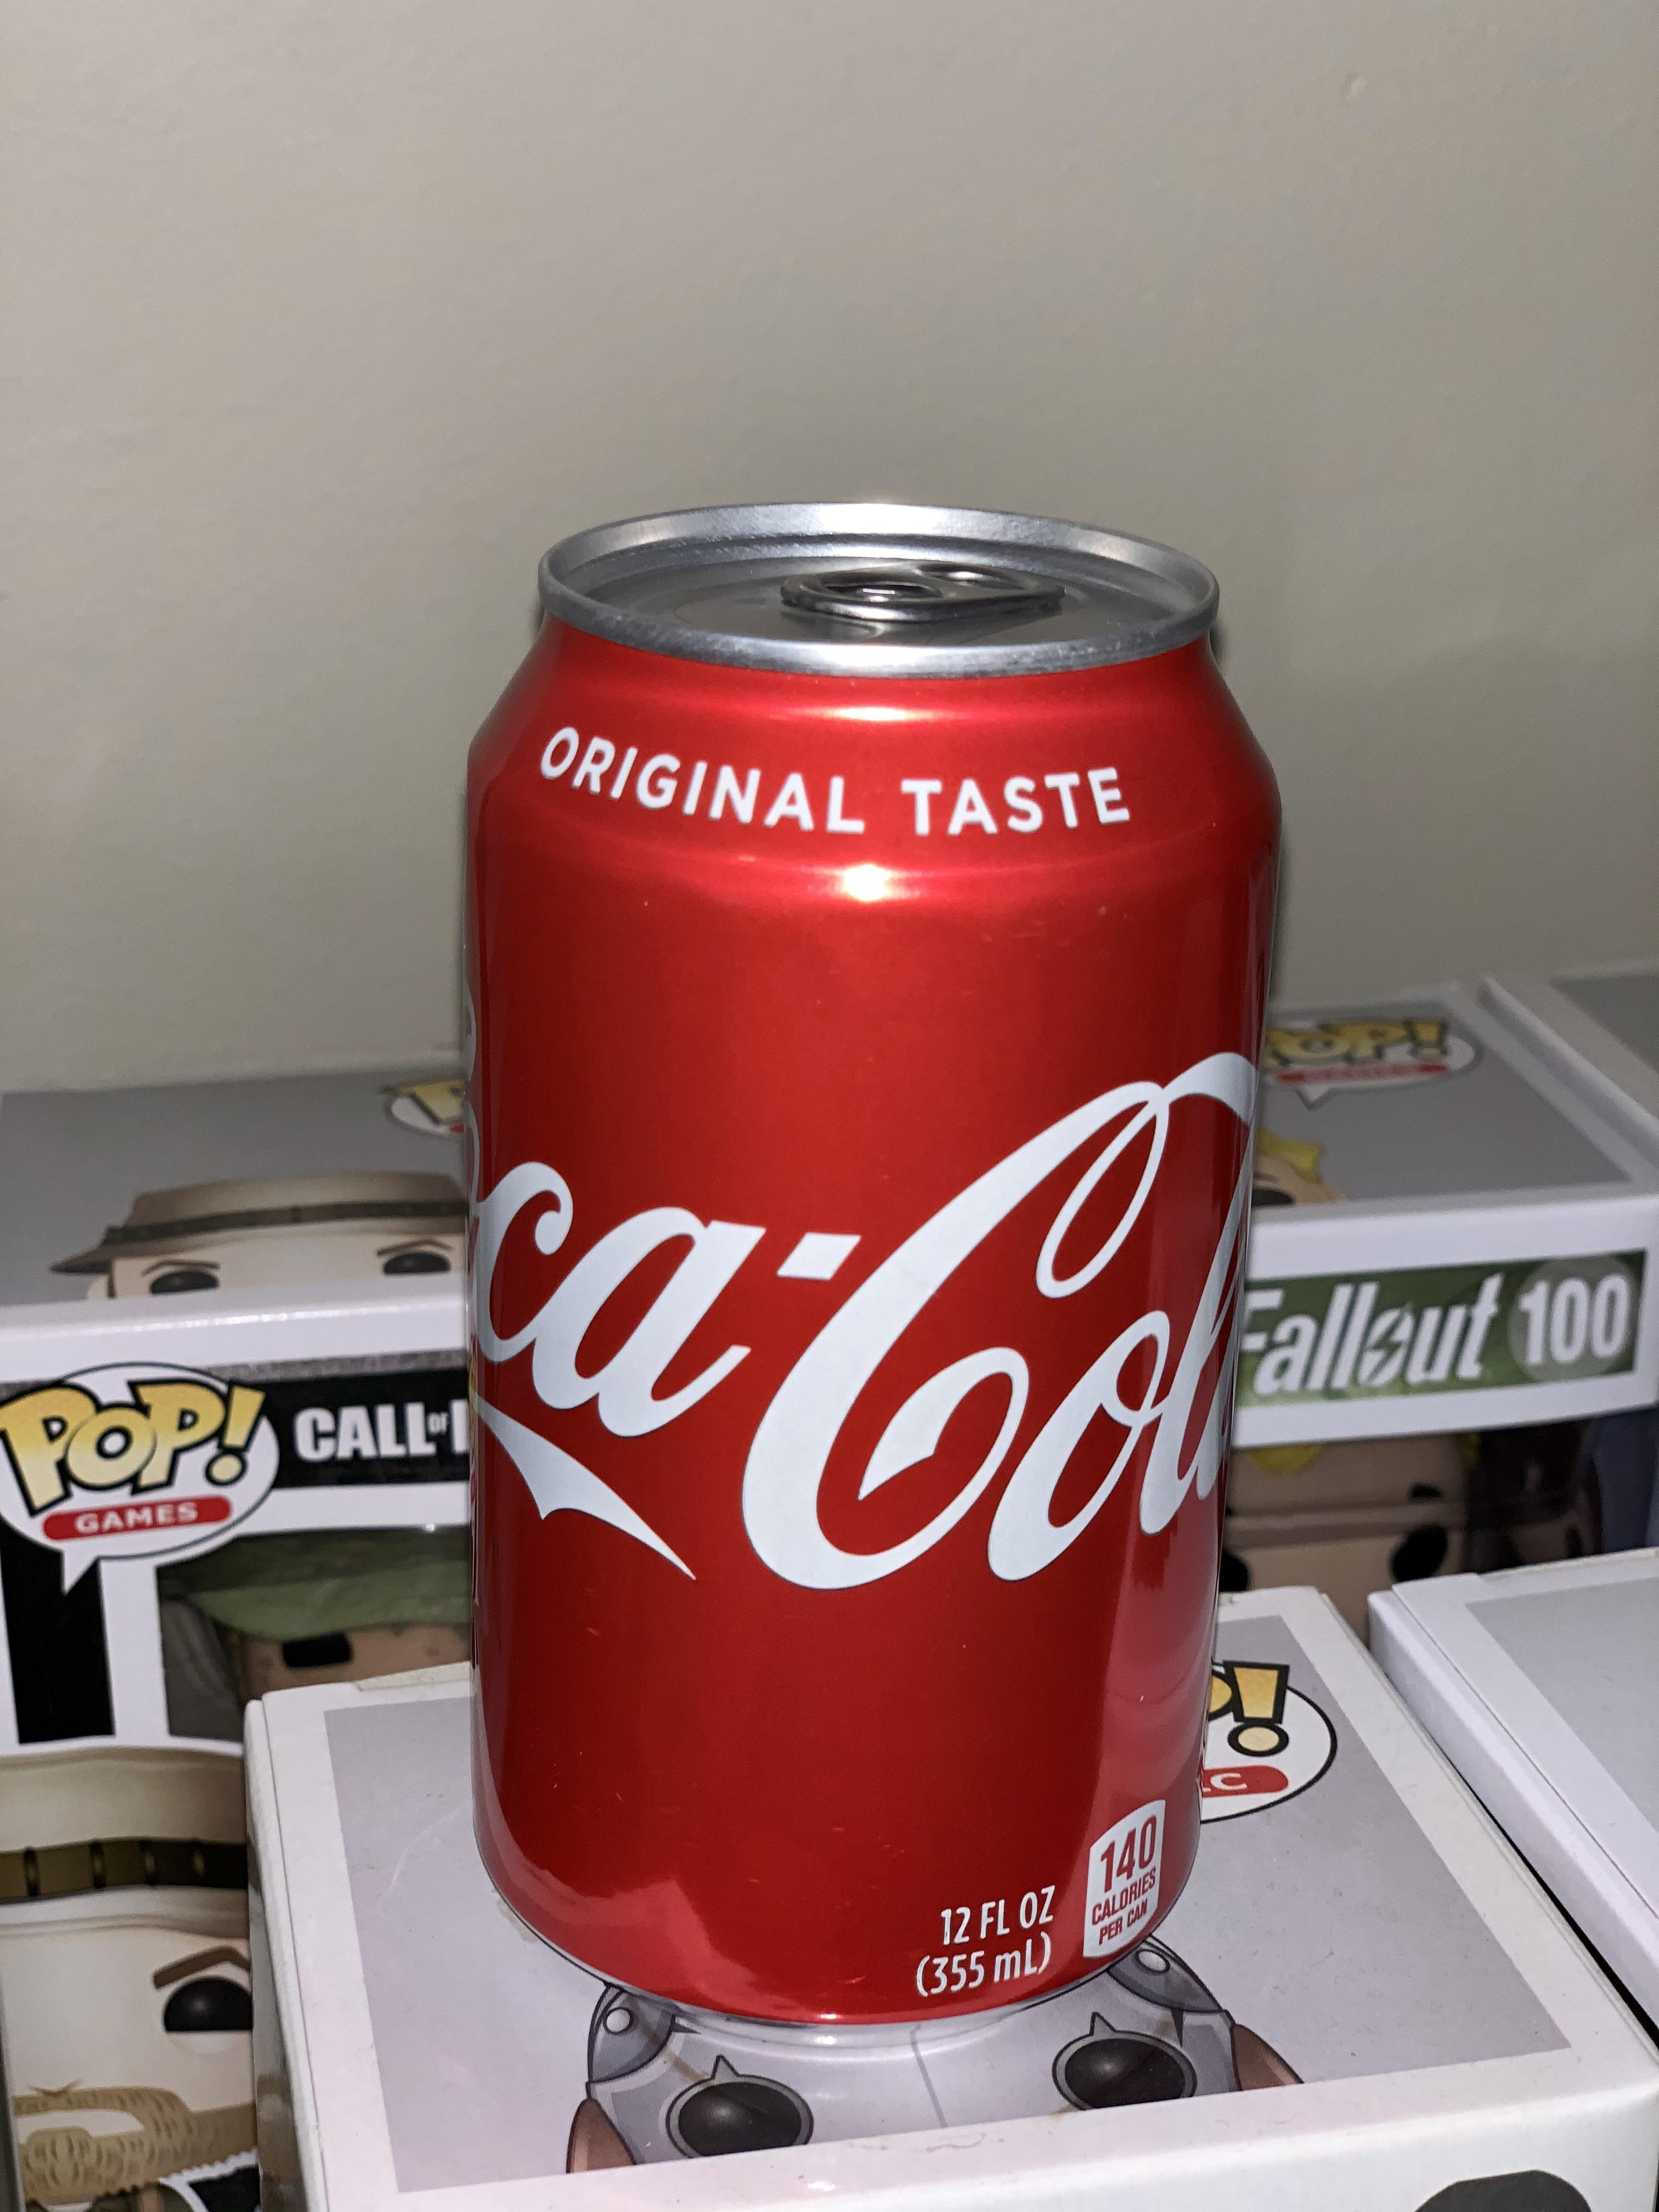coke: (429, 446, 1304, 2060)
